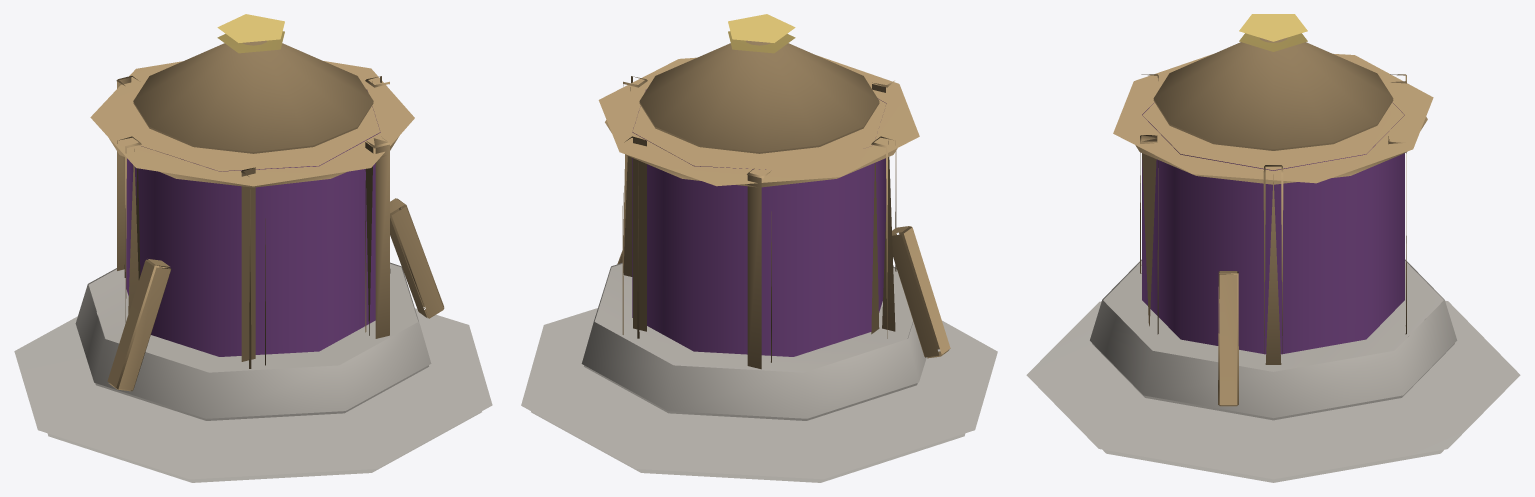
The model's file is focus_extractor_tank_lod2.glb.
3 views of the same model, side by side, from view 1: azimuth 30°, elevation 25°; view 2: azimuth 150°, elevation 25°; view 3: azimuth 270°, elevation 25° (orthographic).
Visible parts, largest first — view 1: focus_extractor_tank.001; view 2: focus_extractor_tank.001; view 3: focus_extractor_tank.001.
Part boxes in pixels (x1,y1,x2,y2): focus_extractor_tank.001: (14, 14, 492, 482); focus_extractor_tank.001: (521, 14, 997, 482); focus_extractor_tank.001: (1026, 14, 1520, 482).
Bounding box in the file's own units: 3.54 × 2.8 × 3.52.
